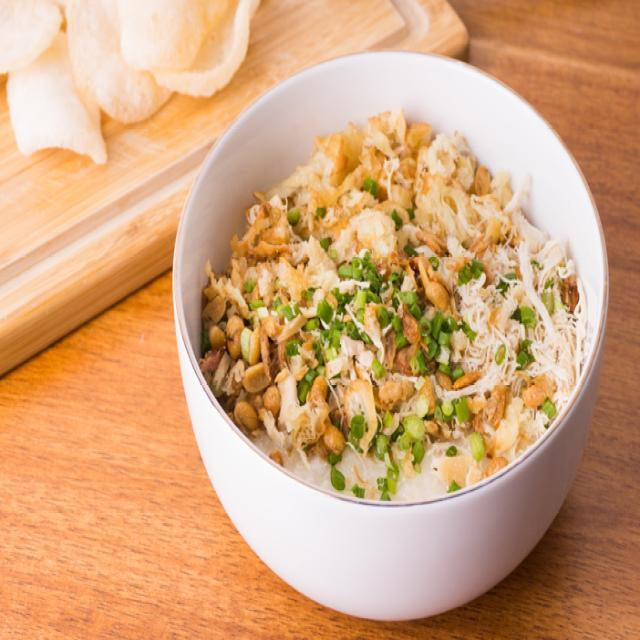bubur ayam: (203, 104, 592, 506)
mangkuk: (170, 51, 610, 622)
